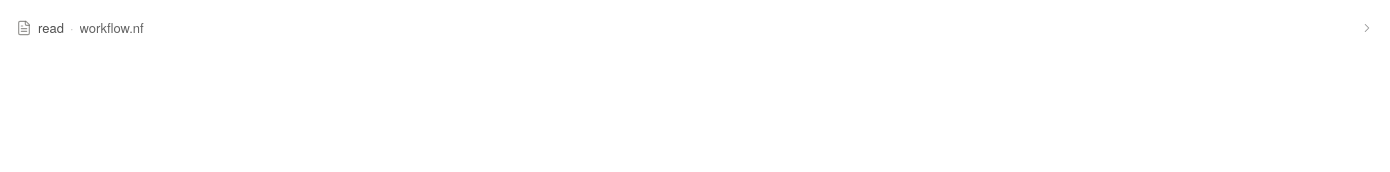
Test: AgentToolCard › keeps command details unmounted until the whole summary row is expanded
Check: the text "read" is shown, box [38, 18, 64, 38]
Check: the text "workflow.nf" is shown, box [80, 18, 144, 37]
Click the button with aria-label "Show details": (112, 28) [12, 12, 1378, 44]
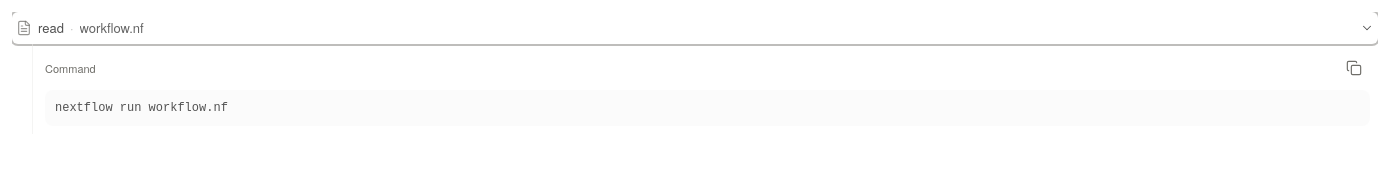
Check: the text "nextflow run workflow.nf" is shown, box [45, 90, 1370, 126]
